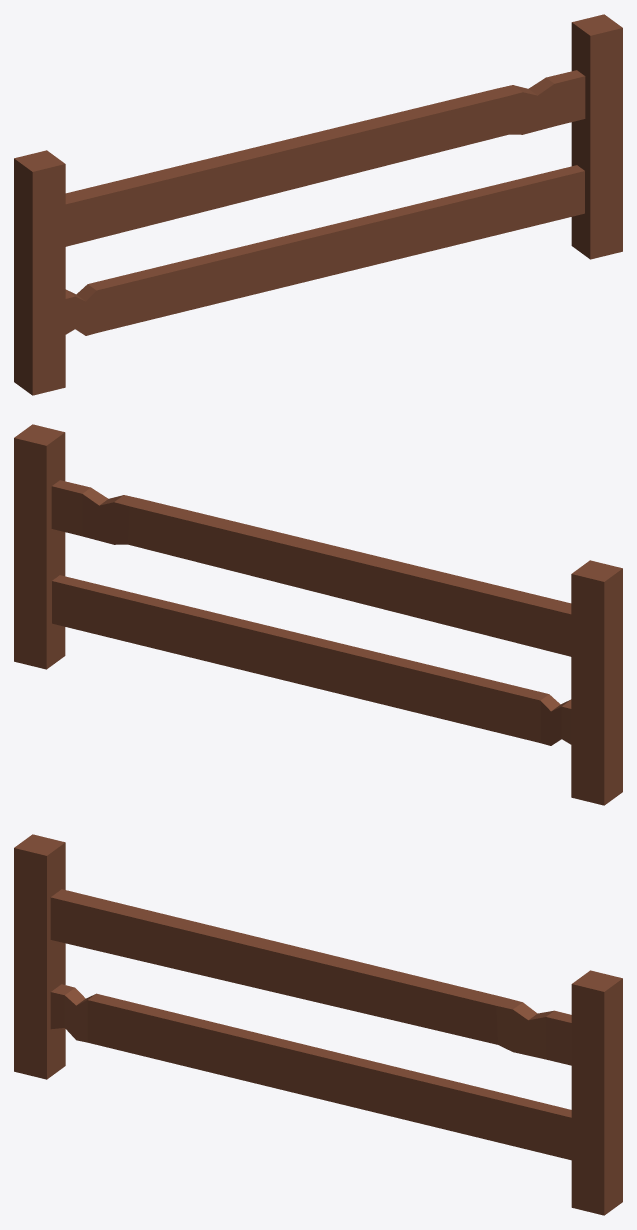
Rendered from Fence2.fbx.
The picture shows the model from 3 angles, top to bottom: view 1: azimuth 30°, elevation 25°; view 2: azimuth 150°, elevation 25°; view 3: azimuth 330°, elevation 25°; orthographic projection.
Visible parts, largest first — view 1: Fence_Cube.057; view 2: Fence_Cube.057; view 3: Fence_Cube.057.
Boxes of the visible parts, x1=… form: Fence_Cube.057: x1=14, y1=14, x2=622, y2=395; Fence_Cube.057: x1=14, y1=424, x2=622, y2=805; Fence_Cube.057: x1=14, y1=834, x2=622, y2=1215.
Size of the model in its own units: 303 by 110 by 16.55.
